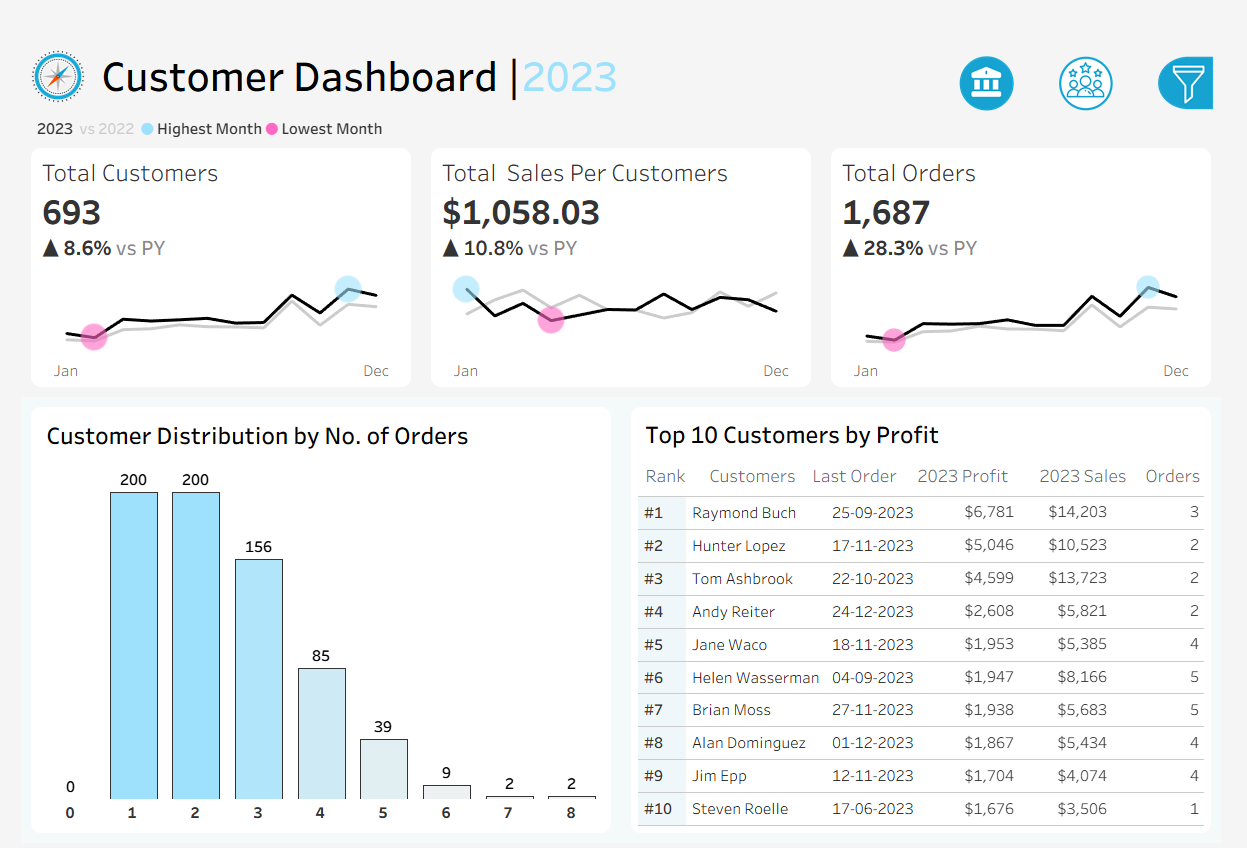

The dashboard page shown, as its layout file describes it:
{"tool":"tableau","page":{"name":"Customer Dashboard","canvas":[1200,800],"ordinal":0},"visuals":[{"type":"image","param":"Image/Icon - Logo.png","box":[0,0,73.5,67]},{"type":"text","box":[73.5,0,828.5,63]},{"type":"dashboard-object","box":[916,8,99,64]},{"type":"dashboard-object","box":[1015,8,99,64]},{"type":"blank","box":[937,10,251,86]},{"type":"worksheet","title":"Legend KPI","mark":"Automatic","box":[0,67,1200,38]},{"type":"text","box":[937,96,251,40]},{"type":"worksheet","title":"KPI Customer","mark":"Automatic","rows":["Calculation_2013504822808579"],"cols":["Order Date"],"box":[0,105,400,249]},{"type":"worksheet","title":"KPI Sales Per Customer","mark":"Automatic","rows":["Calculation_2013504826302477"],"cols":["Order Date"],"box":[400,105,400,249]},{"type":"worksheet","title":"KPI Orders","mark":"Line","rows":["Calculation_2013504823857160"],"cols":["Order Date"],"box":[800,105,400,249]},{"type":"parameter","param":"[Parameters].[Parameter 1]","box":[937,136,251,56]},{"type":"blank","box":[937,192,251,80]},{"type":"text","box":[937,272,251,33]},{"type":"filter","title":"KPI Customer","param":"[federated.102402t0xyt6bf1528je301eo9xo].[none:Category:nk]","box":[937,305,251,61]},{"type":"filter","title":"KPI Customer","param":"[federated.102402t0xyt6bf1528je301eo9xo].[none:Sub-Category:nk]","box":[937,366,251,61]},{"type":"text","box":[617,371,566,40]},{"type":"text","box":[18,372,564,40]},{"type":"text","box":[617,411,64,42]},{"type":"text","box":[681,411,103,42]},{"type":"text","box":[784,411,105,42]},{"type":"text","box":[889,411,122,42]},{"type":"text","box":[1011,411,106,42]},{"type":"text","box":[1117,411,66,42]},{"type":"worksheet","title":"Customer Distribution","mark":"Bar","rows":["Calculation_2013504804872192"],"cols":["Calculation_2013504824102921"],"box":[18,412,564,370]},{"type":"blank","box":[937,427,251,74]},{"type":"worksheet","title":"Top Customers","mark":"Automatic","rows":["Calculation_0112724194295810","Customer Name","Order Date"],"box":[617,453,566,330]},{"type":"text","box":[937,501,251,33]},{"type":"filter","title":"KPI Customer","param":"[federated.102402t0xyt6bf1528je301eo9xo].[none:Region:nk]","box":[937,534,251,61]},{"type":"filter","title":"KPI Customer","param":"[federated.102402t0xyt6bf1528je301eo9xo].[none:State:nk]","box":[937,595,251,61]},{"type":"filter","title":"KPI Customer","param":"[federated.102402t0xyt6bf1528je301eo9xo].[none:City:nk]","box":[937,656,251,61]}]}

Visuals, with their boxes in screenshot pixels (x1, y1, x2, y2), scaled from the page's 1200x800 canvas onto the 1247x848 screenshot:
image: 0,0,76,71
text: 76,0,937,67
dashboard-object: 952,8,1055,76
dashboard-object: 1055,8,1158,76
blank: 974,11,1235,102
"Legend KPI" worksheet: 0,71,1246,111
text: 974,102,1235,144
"KPI Customer" worksheet: 0,111,416,375
"KPI Sales Per Customer" worksheet: 416,111,831,375
"KPI Orders" worksheet (Line marks): 831,111,1246,375
parameter: 974,144,1235,204
blank: 974,204,1235,288
text: 974,288,1235,323
"KPI Customer" filter: 974,323,1235,388
"KPI Customer" filter: 974,388,1235,453
text: 641,393,1229,436
text: 19,394,605,437
text: 641,436,708,480
text: 708,436,815,480
text: 815,436,924,480
text: 924,436,1051,480
text: 1051,436,1161,480
text: 1161,436,1229,480
"Customer Distribution" worksheet (Bar marks): 19,437,605,829
blank: 974,453,1235,531
"Top Customers" worksheet: 641,480,1229,830
text: 974,531,1235,566
"KPI Customer" filter: 974,566,1235,631
"KPI Customer" filter: 974,631,1235,695
"KPI Customer" filter: 974,695,1235,760
